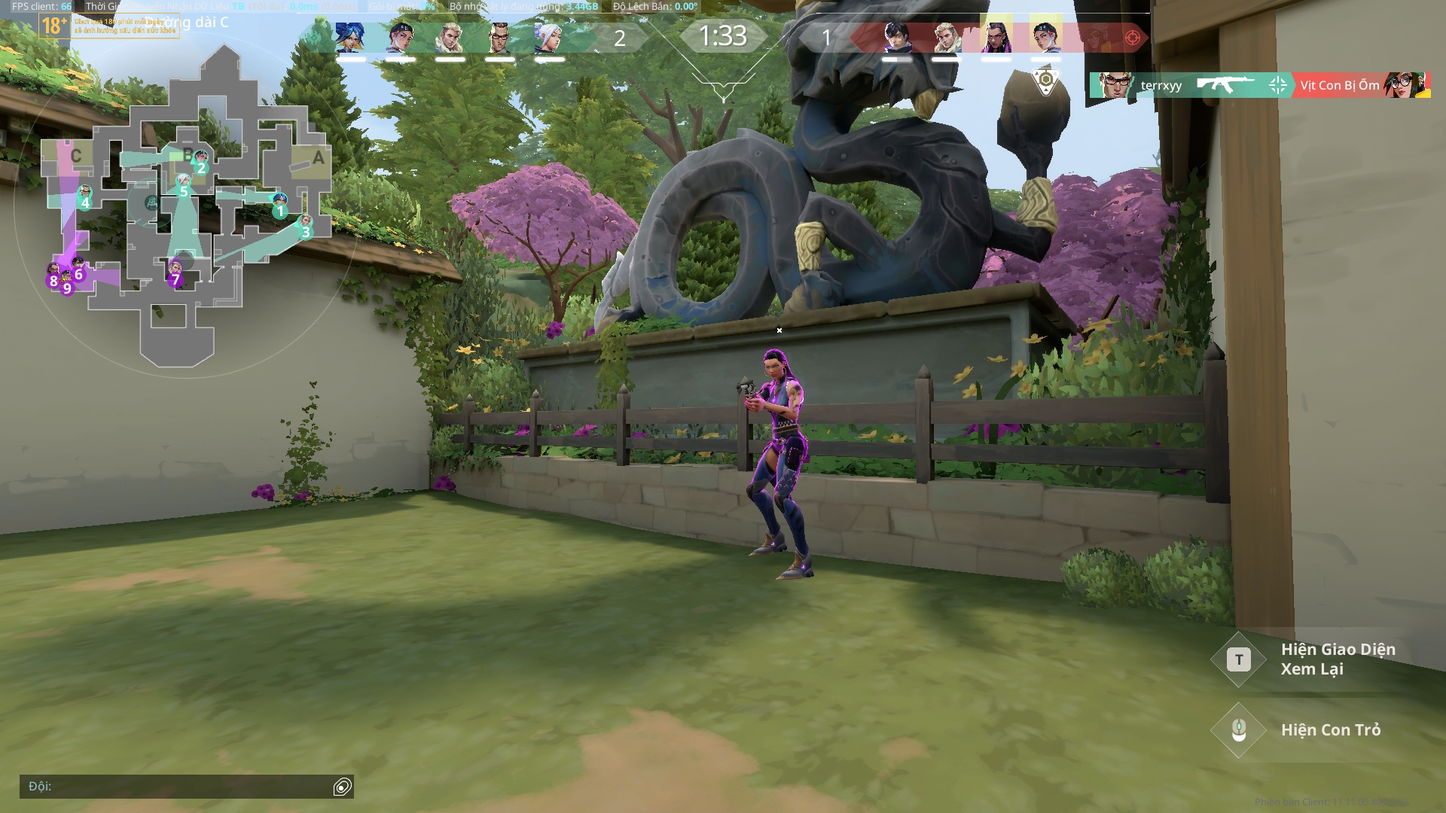body: (764, 377, 800, 430)
head: (761, 350, 789, 376)
